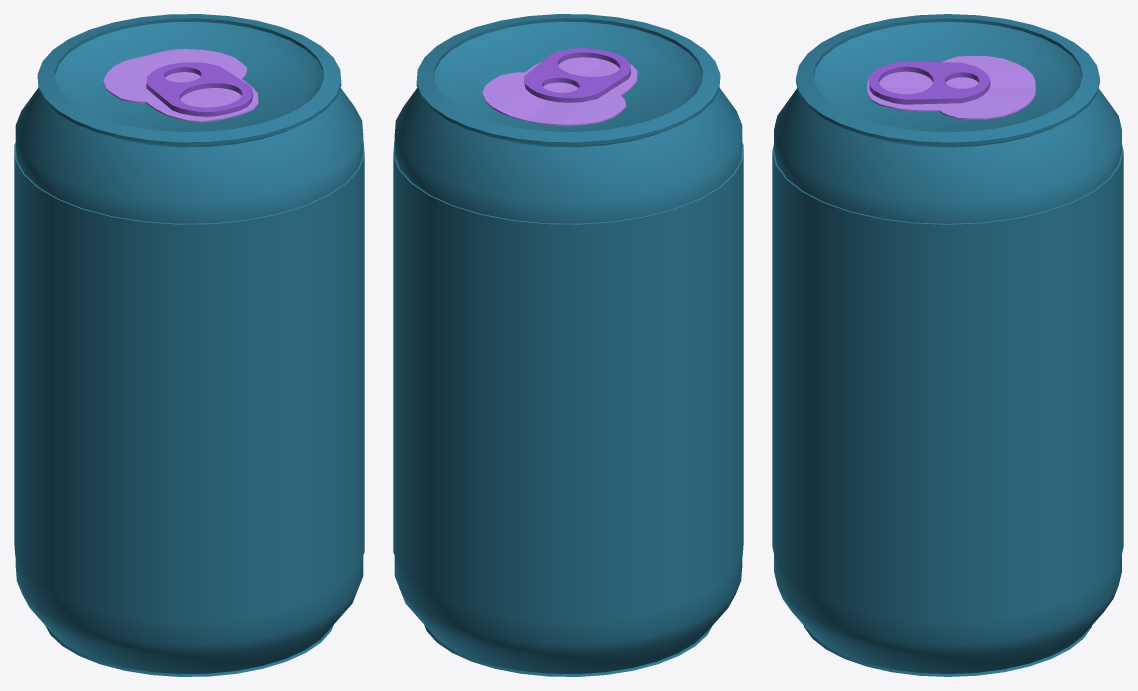
The picture shows the model from 3 angles, left to right: view 1: azimuth 30°, elevation 25°; view 2: azimuth 150°, elevation 25°; view 3: azimuth 270°, elevation 25°; orthographic projection.
Visible parts, largest first — view 1: Big__0, split_parent_0, Cylinder__0; view 2: Big__0, split_parent_0, Cylinder__0; view 3: Big__0, split_parent_0, Cylinder__0.
Part boxes in pixels (box(x1,y1,x2,y2)): Big__0: box(14, 14, 364, 676); split_parent_0: box(103, 49, 258, 122); Cylinder__0: box(146, 62, 252, 116); Big__0: box(393, 14, 743, 676); split_parent_0: box(482, 57, 637, 126); Cylinder__0: box(524, 48, 630, 102); Big__0: box(772, 14, 1123, 676); split_parent_0: box(867, 56, 1035, 119); Cylinder__0: box(869, 61, 990, 104).
Size of the model in its own units: 0.5898 by 1 by 0.5898.
